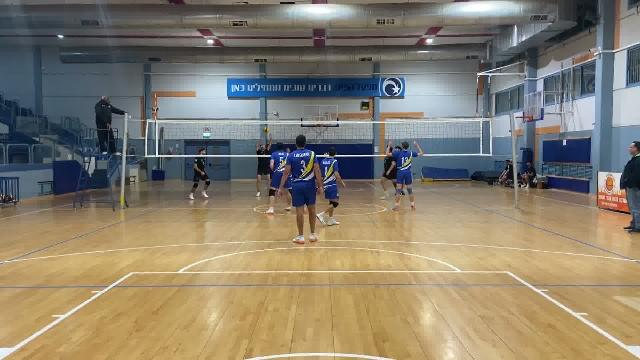ball: (262, 124, 270, 133)
